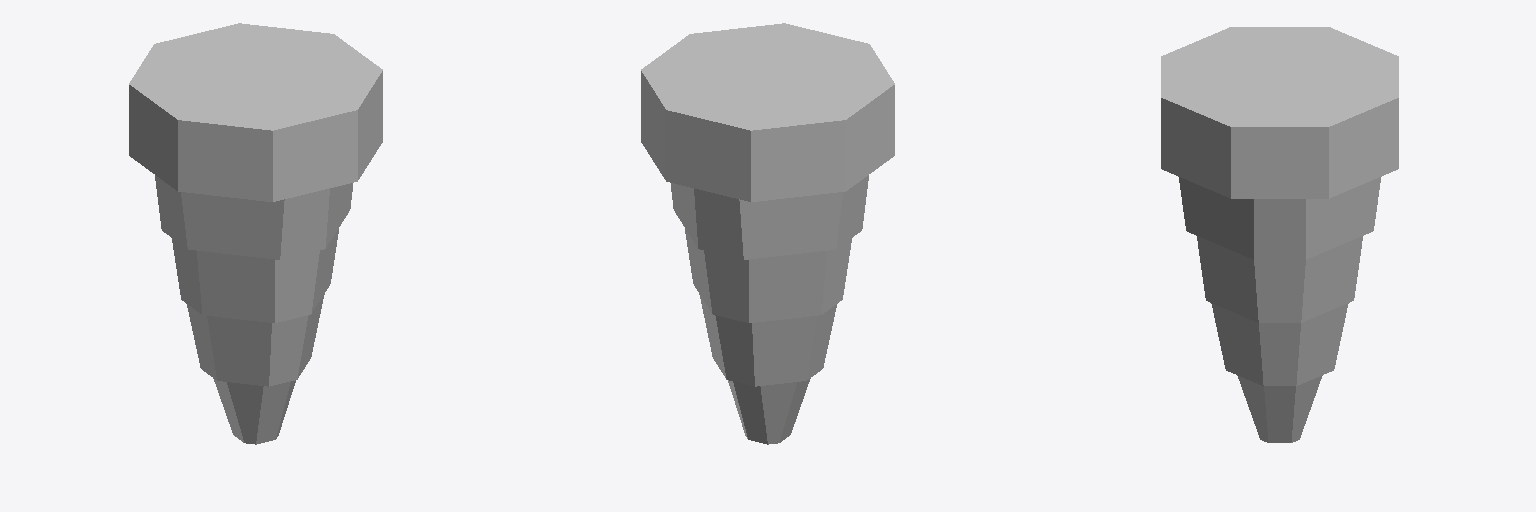
The model's file is coredrill_bit.obj.
The picture shows the model from 3 angles: view 1: azimuth 30°, elevation 25°; view 2: azimuth 150°, elevation 25°; view 3: azimuth 270°, elevation 25°; orthographic projection.
Visible parts, largest first — view 1: cylinder; view 2: cylinder; view 3: cylinder.
Part boxes in pixels (x1,y1,x2,y2): cylinder: (129,23,382,444); cylinder: (641,23,894,444); cylinder: (1161,27,1398,442).
Bounding box in the file's own units: 3 × 5 × 3.